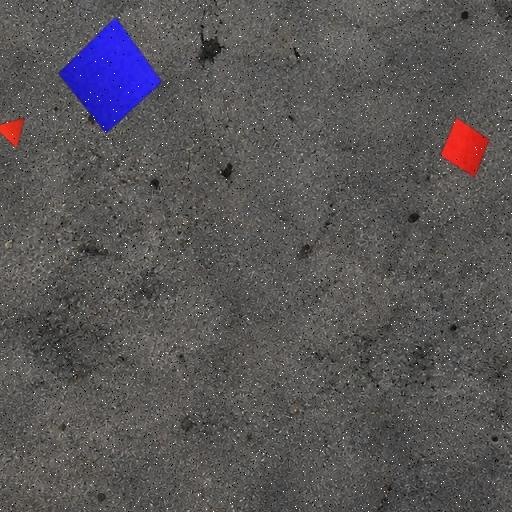BLUE_SQUARE: (58, 16, 163, 134)
RED_SQUARE: (440, 117, 490, 178)
